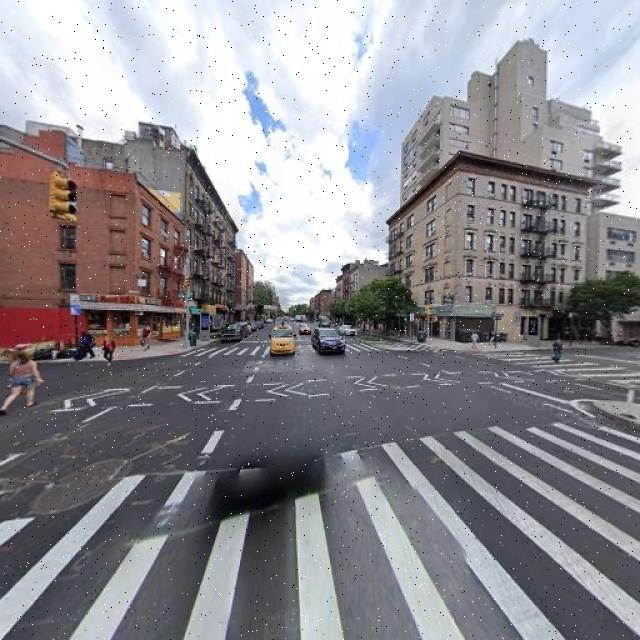Building: (390, 159, 589, 344), (1, 159, 182, 350)
